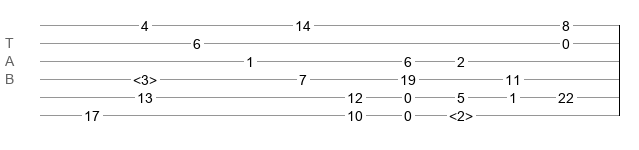0: (404, 90, 412, 100), (404, 108, 412, 118), (562, 36, 570, 46)
1: (246, 54, 254, 64), (509, 90, 517, 100)
10: (347, 108, 363, 118)
11: (505, 72, 521, 82)
12: (347, 90, 363, 100)
13: (137, 90, 153, 100)
14: (295, 18, 311, 28)
17: (84, 108, 100, 118)
19: (400, 72, 416, 82)
2: (457, 54, 465, 64)
22: (558, 90, 574, 100)
4: (141, 18, 149, 28)
5: (457, 90, 465, 100)
6: (193, 36, 201, 46), (404, 54, 412, 64)
7: (299, 72, 307, 82)
8: (562, 18, 570, 28)
harmonic: (133, 72, 157, 82), (449, 108, 473, 118)
